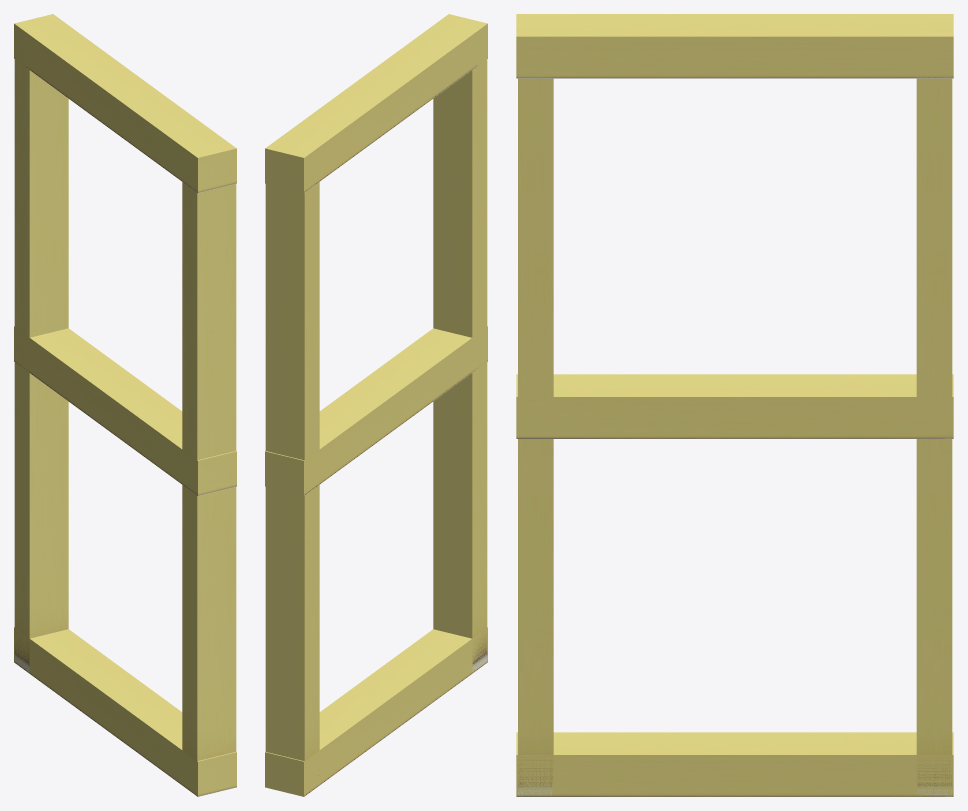
The model's file is door1.obj.
The picture shows the model from 3 angles, left to right: view 1: azimuth 30°, elevation 25°; view 2: azimuth 150°, elevation 25°; view 3: azimuth 270°, elevation 25°; orthographic projection. The views are drawn at different scales.
Parts seen in each view (by area): view 1: polySurface293; view 2: polySurface293; view 3: polySurface293.
Boxes of the visible parts, <box> form: polySurface293: <box>14,14,236,796</box>; polySurface293: <box>265,14,487,796</box>; polySurface293: <box>516,14,953,796</box>.
Size of the model in its own units: 0.1784 by 2.79 by 1.45.
1 material, 1 textured.
